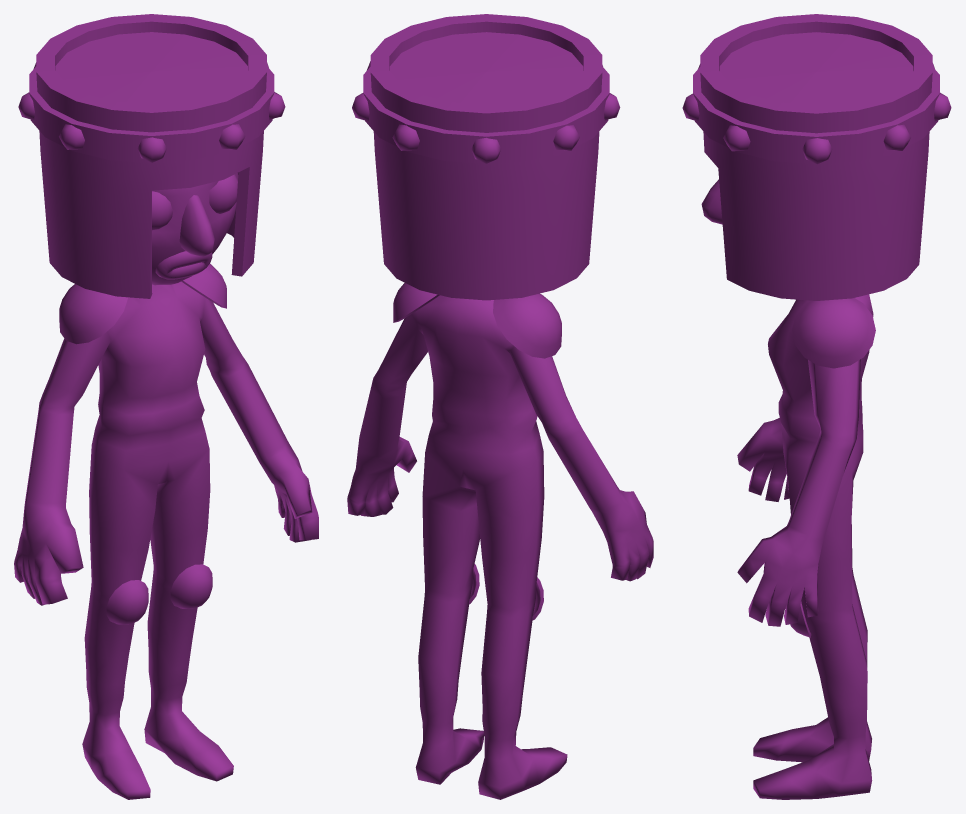
File: MSH_Adventurer.FBX
3 renders of one model, left to right at view 1: azimuth 30°, elevation 25°; view 2: azimuth 150°, elevation 25°; view 3: azimuth 270°, elevation 25°, orthographic.
Parts seen in each view (by area): view 1: MSH_Adventurer; view 2: MSH_Adventurer; view 3: MSH_Adventurer.
Part boxes in pixels (<box>): MSH_Adventurer: <box>14,14,318,799</box>; MSH_Adventurer: <box>347,14,653,799</box>; MSH_Adventurer: <box>682,14,951,799</box>.
Bounding box in the file's own units: 0.8019 × 0.661 × 1.92.
